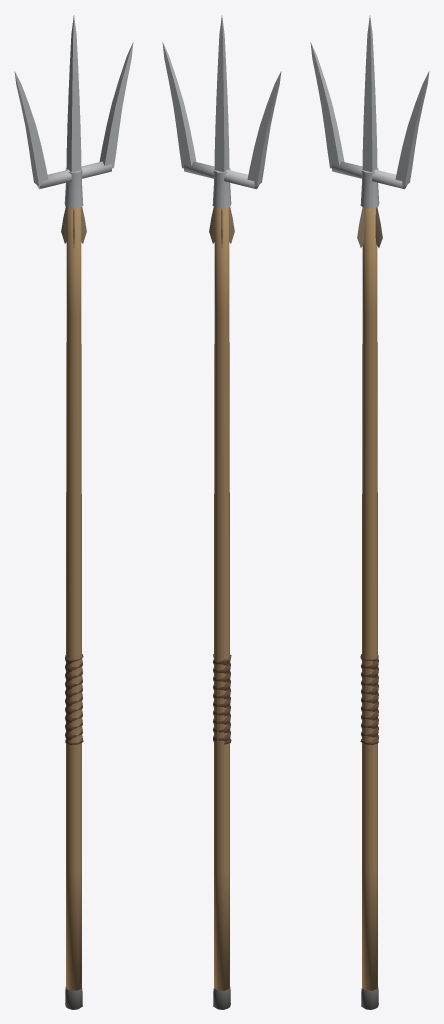
Rendered from tiger-fork.glb.
3 renders of one model, left to right at view 1: azimuth 30°, elevation 25°; view 2: azimuth 150°, elevation 25°; view 3: azimuth 330°, elevation 25°, orthographic.
Visible parts, largest first — view 1: tiger-fork; view 2: tiger-fork; view 3: tiger-fork.
Part boxes in pixels (x1,y1,x2,y2): tiger-fork: (14,15,133,1009); tiger-fork: (162,15,281,1009); tiger-fork: (310,15,429,1009).
Bounding box in the file's own units: 0.66 × 5.26 × 0.1239.
